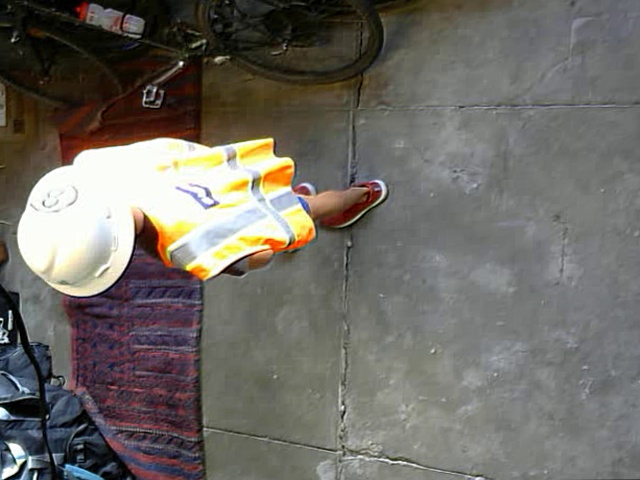eight: (28, 178, 78, 213)
